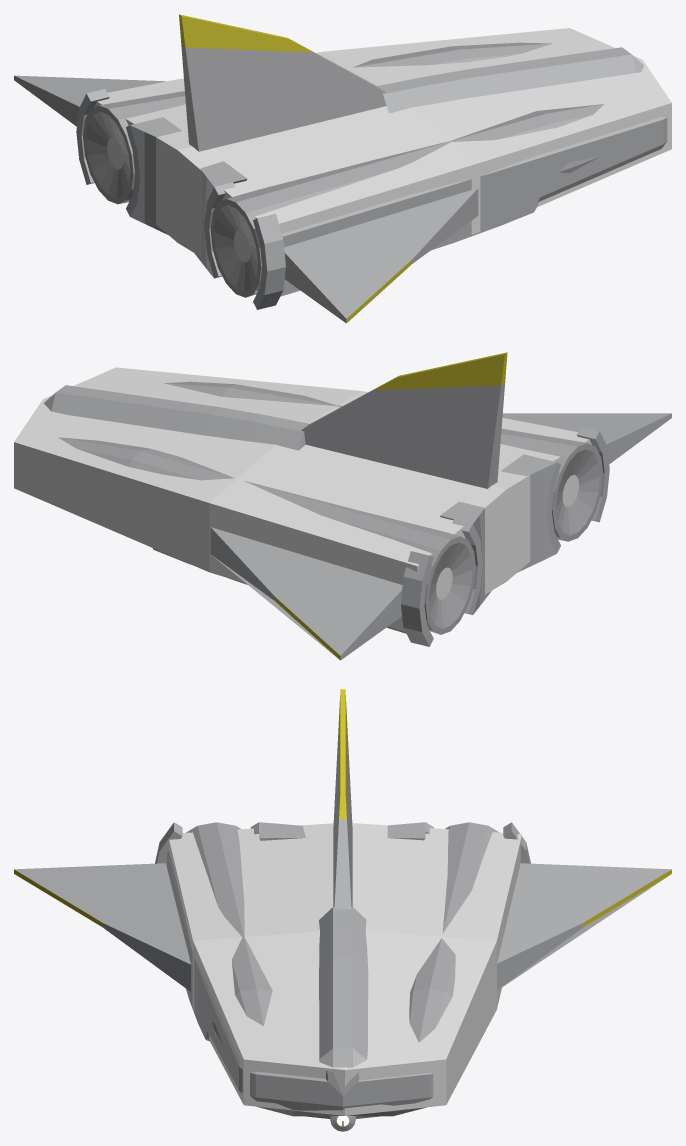
The model's file is PlayerShip.fbx.
3 views of the same model, one above another, from view 1: azimuth 30°, elevation 25°; view 2: azimuth 150°, elevation 25°; view 3: azimuth 270°, elevation 25° (orthographic).
Visible parts, largest first — view 1: Ship.B, Ship.A; view 2: Ship.B, Ship.A; view 3: Ship.A, Ship.B.
Part boxes in pixels (box(x1,y1,x2,y2)): Ship.B: box(14, 14, 667, 323); Ship.A: box(94, 28, 671, 290); Ship.B: box(44, 352, 671, 660); Ship.A: box(14, 367, 591, 635); Ship.A: box(169, 823, 521, 1115); Ship.B: box(14, 689, 671, 1131).
Size of the model in its own units: 214 by 111 by 260.
